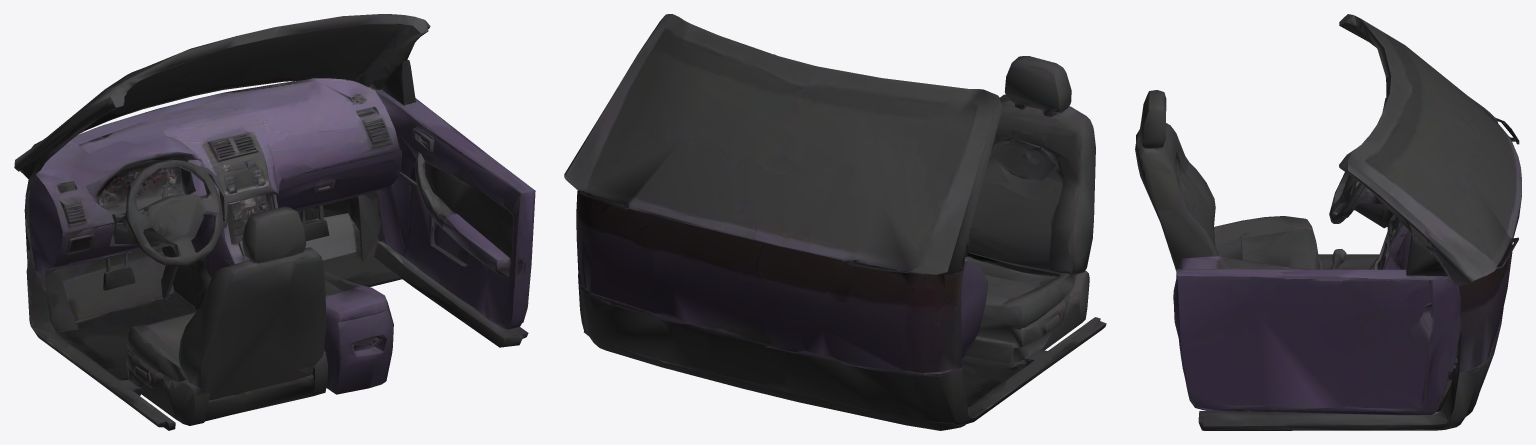
Rendered from interieur.glb.
3 views of the same model, side by side, from view 1: azimuth 30°, elevation 25°; view 2: azimuth 150°, elevation 25°; view 3: azimuth 270°, elevation 25° (orthographic). The views are drawn at different scales.
Size of the model in its own units: 1.9 by 1.37 by 1.77.
1 material, 1 textured.
